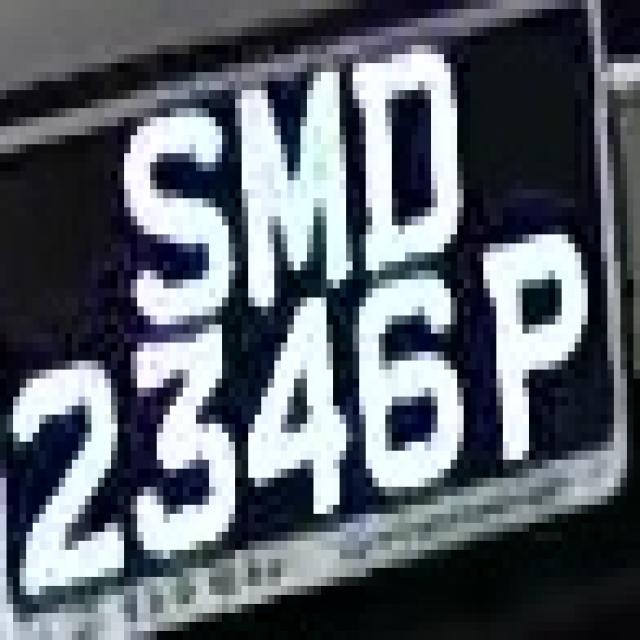2: (7, 352, 144, 622)
3: (98, 297, 255, 586)
4: (209, 279, 372, 550)
6: (327, 252, 483, 514)
D: (327, 36, 470, 261)
M: (209, 54, 366, 334)
P: (464, 225, 600, 469)
S: (92, 72, 235, 325)
